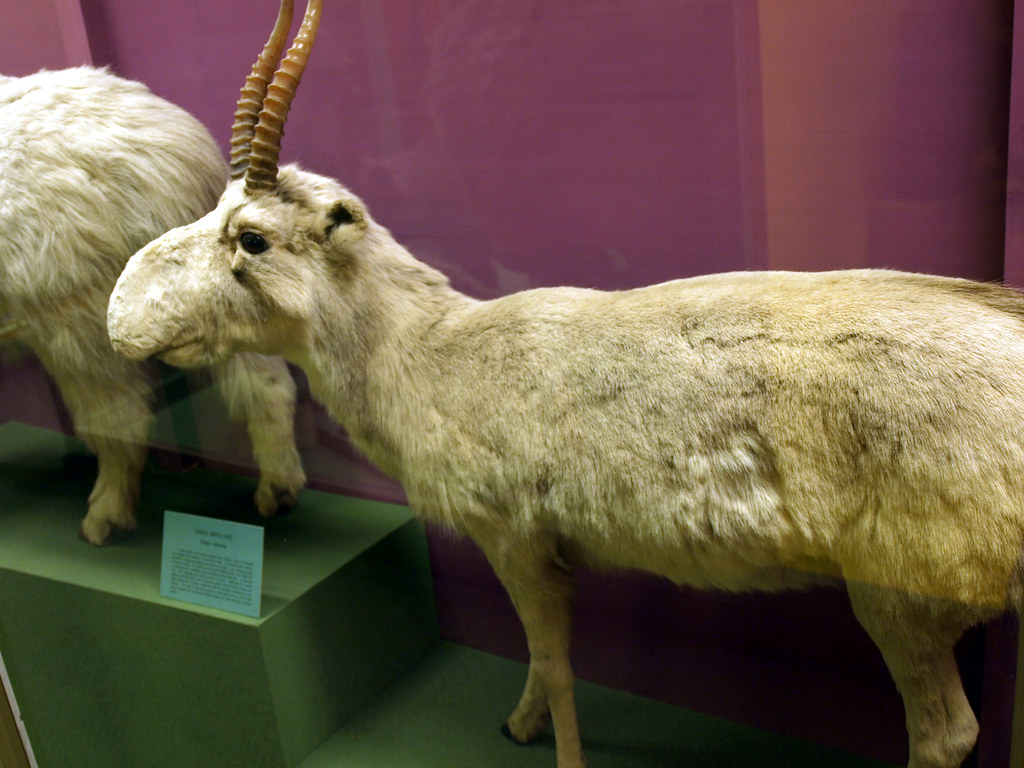saiga: (97, 6, 1024, 768)
